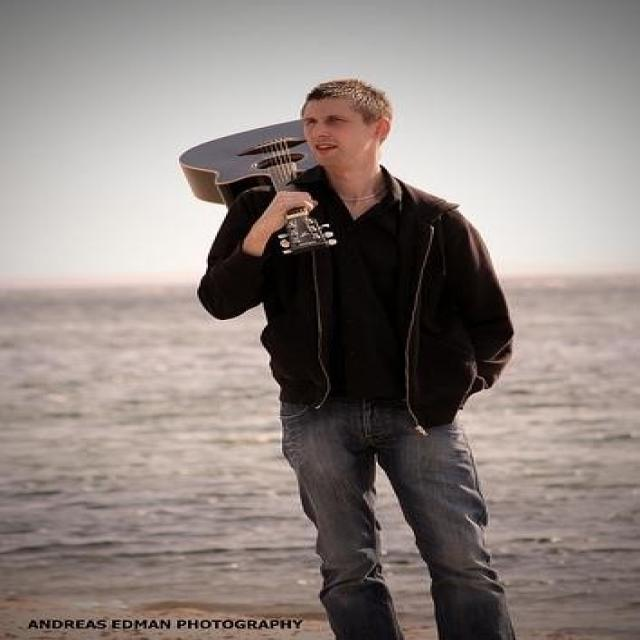guitar: (172, 105, 345, 261)
